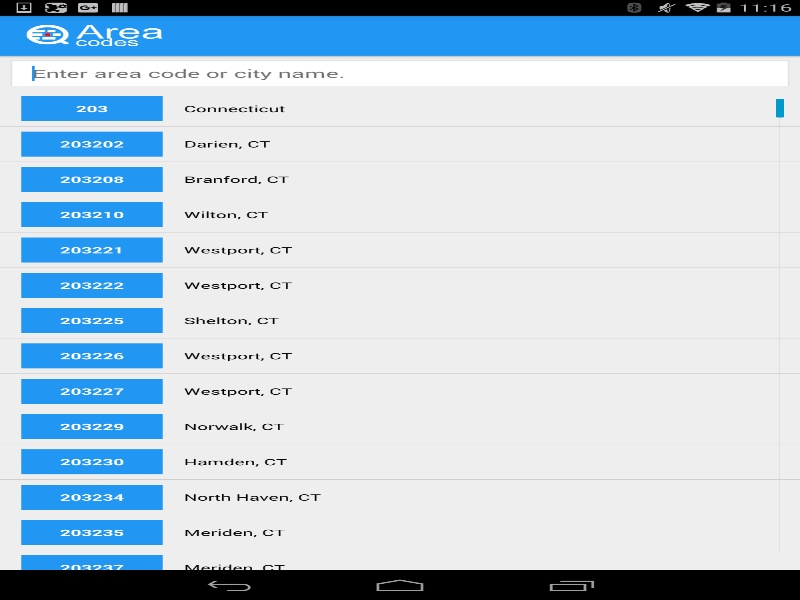Input: (10, 60, 789, 86)
